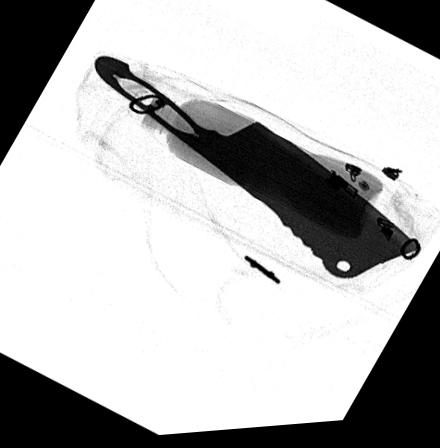Knife: (92, 56, 422, 284)
